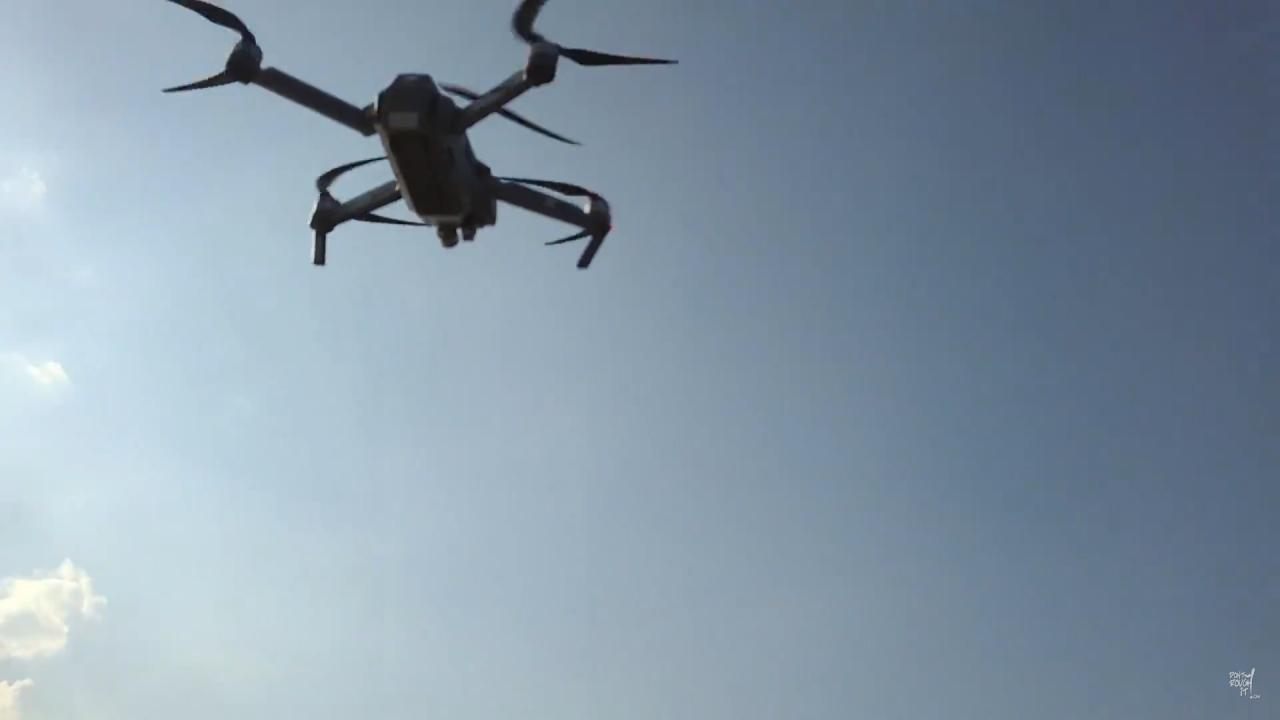Drone: (135, 0, 708, 296)
